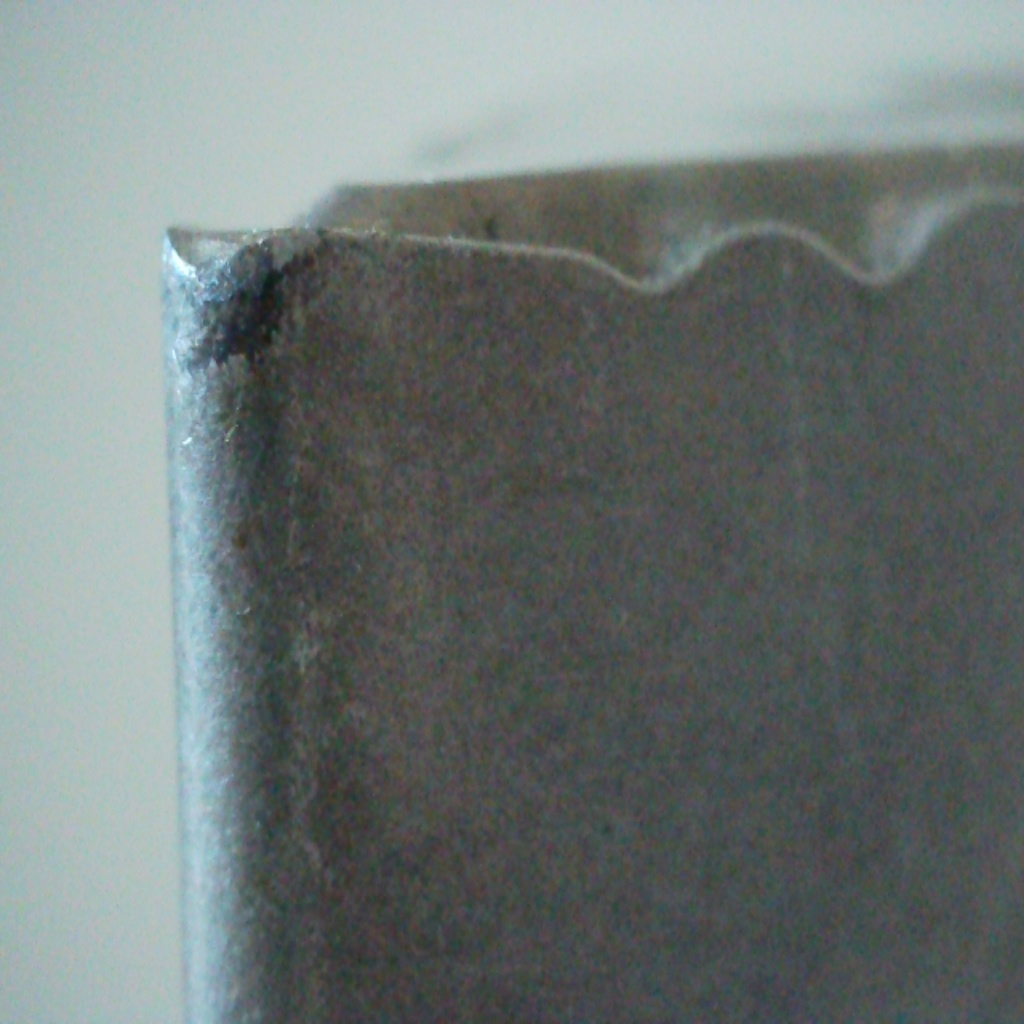flank_wear: (144, 218, 318, 357)
